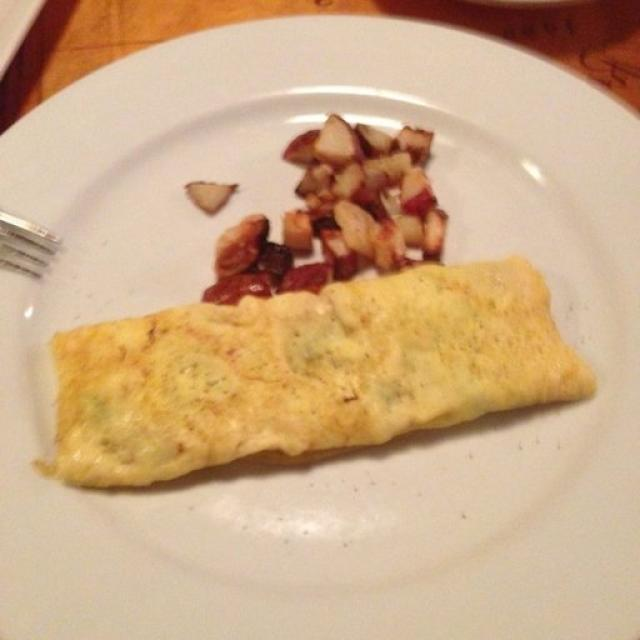telur_ayam_dadar: (34, 252, 598, 490)
